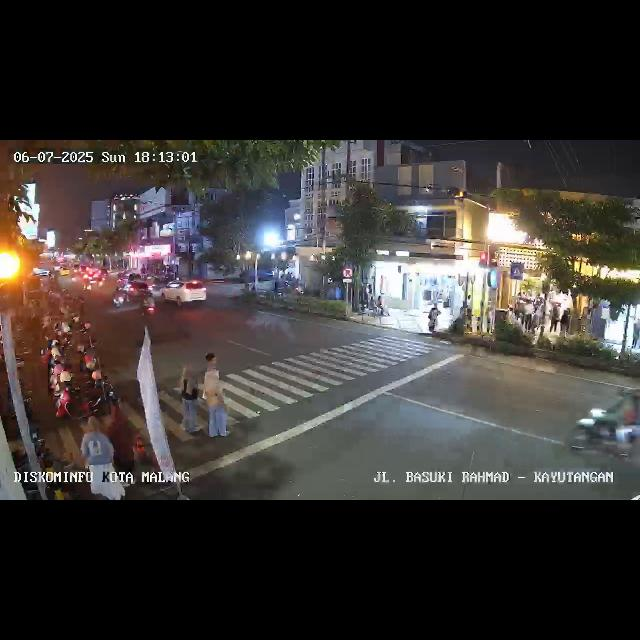car: (155, 280, 209, 308)
motorcycle: (574, 386, 640, 462), (141, 292, 157, 320), (112, 282, 128, 310)
person: (78, 408, 124, 499), (108, 397, 140, 497), (204, 364, 228, 442), (178, 364, 202, 434), (206, 348, 224, 372), (427, 303, 439, 333), (549, 303, 559, 335), (560, 304, 570, 336), (524, 302, 532, 334), (632, 320, 640, 350)
